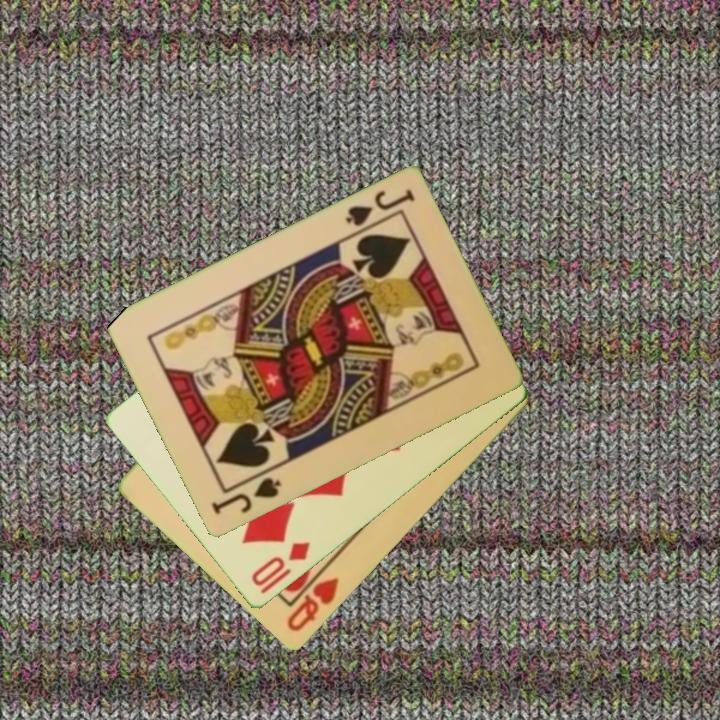10d: (247, 538, 314, 598)
Js: (207, 474, 285, 518), (342, 186, 418, 231)
Qh: (283, 574, 342, 635)
